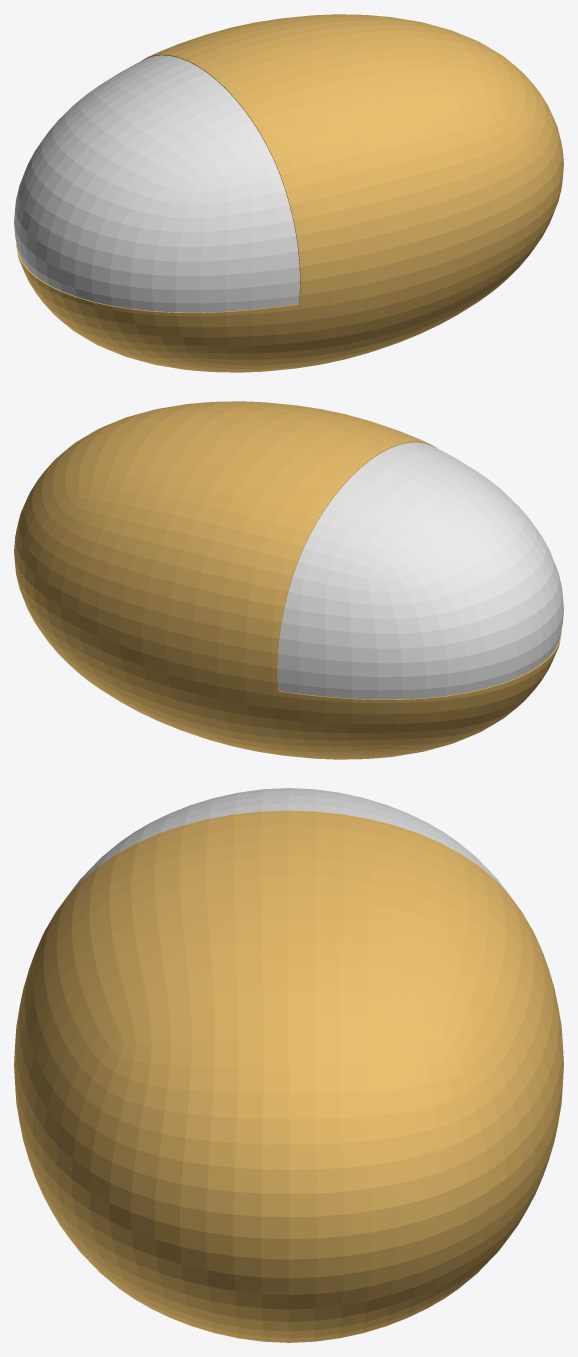
3 views of the same model, one above another, from view 1: azimuth 30°, elevation 25°; view 2: azimuth 150°, elevation 25°; view 3: azimuth 270°, elevation 25° (orthographic). The views are drawn at different scales.
Parts seen in each view (by area): view 1: 立方体.004, 立方体.002; view 2: 立方体.004, 立方体.002; view 3: 立方体.004, 立方体.002.
Boxes of the visible parts, x1,y1,x2,y2 form: 立方体.004: (16,14,563,372); 立方体.002: (14,55,299,312); 立方体.004: (14,401,561,759); 立方体.002: (278,442,563,699); 立方体.004: (14,810,563,1342); 立方体.002: (69,788,508,893).
Bounding box in the file's own units: 4490 × 2500 × 3000.
